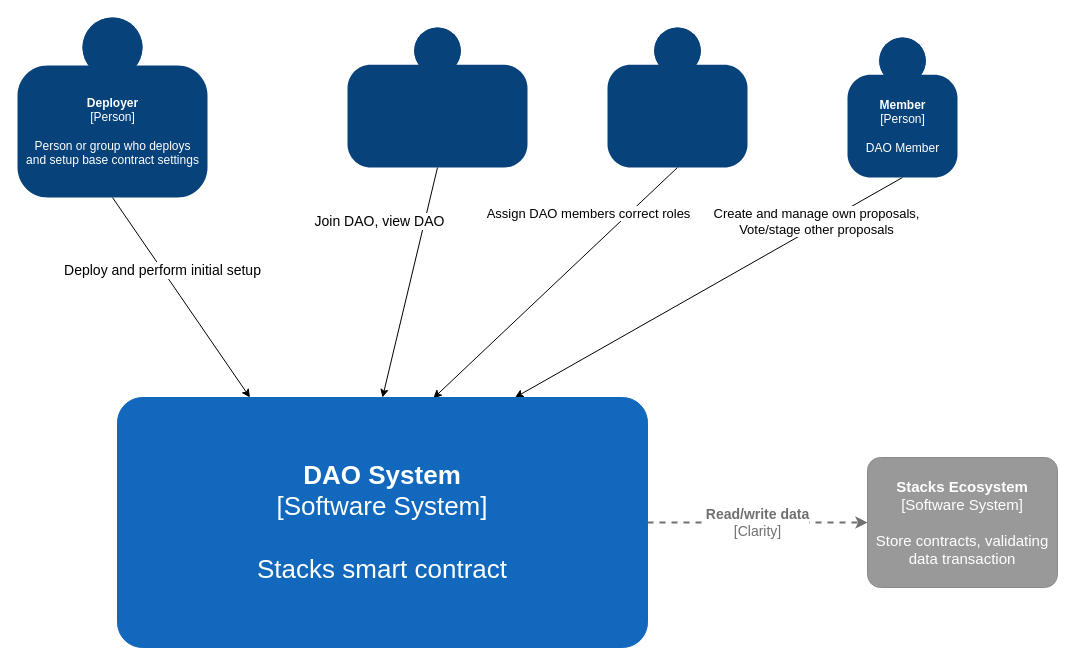
This 1075x665 diagram has some shape labels left out. The shapes that lost their labels are listed below. From the top down, each one's centre as x and y in pixels, then its label:
At [437,97]: "Public user [Person] Person who is not a member of DAO or is not logged in.".
At [677,97]: "Administrator/Owner [Person] DAO owner".
